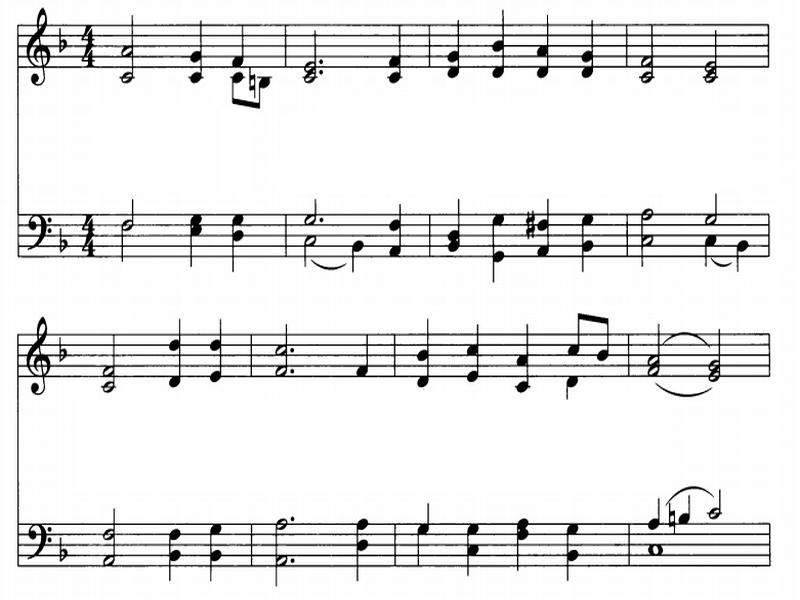B: (687, 14, 735, 88), (627, 1, 665, 93), (87, 504, 132, 575), (100, 324, 129, 403), (636, 199, 664, 268), (117, 14, 143, 86), (707, 326, 735, 386), (113, 1, 142, 55), (267, 321, 290, 382), (297, 21, 317, 90), (643, 315, 663, 379), (117, 221, 138, 265), (708, 485, 732, 522), (116, 55, 139, 90), (704, 184, 722, 228), (299, 230, 318, 267), (120, 195, 139, 228), (270, 552, 287, 583), (302, 193, 318, 222), (274, 517, 286, 548)
Bem: (57, 536, 74, 568), (55, 24, 72, 54), (54, 335, 71, 365), (55, 225, 67, 253)
C: (589, 311, 625, 369), (562, 304, 592, 357), (255, 74, 282, 112), (226, 74, 242, 108)
CF: (22, 508, 55, 565), (22, 203, 56, 257)
CS: (19, 300, 54, 405), (21, 1, 51, 95)
N: (158, 494, 201, 583), (173, 8, 215, 89), (505, 313, 542, 400), (408, 310, 441, 394), (345, 501, 380, 579), (443, 166, 473, 255), (481, 4, 513, 85), (507, 493, 538, 575), (475, 204, 508, 281), (555, 515, 592, 583), (204, 496, 232, 585), (452, 514, 489, 578), (574, 197, 604, 275), (575, 8, 608, 78), (458, 318, 490, 389), (175, 205, 207, 273), (157, 315, 186, 388), (200, 314, 229, 386), (529, 8, 557, 82), (223, 204, 252, 274), (380, 14, 408, 86), (385, 193, 411, 264), (354, 331, 381, 391), (446, 14, 470, 80), (229, 15, 252, 67), (417, 523, 440, 569), (553, 371, 581, 408), (695, 230, 720, 269), (413, 492, 435, 532), (643, 493, 664, 533), (347, 235, 369, 273), (729, 237, 750, 275), (676, 494, 701, 525)
P: (288, 512, 299, 527), (290, 557, 302, 570), (285, 369, 298, 379), (317, 68, 328, 78), (314, 58, 328, 65), (289, 346, 299, 354)
R: (645, 544, 665, 557)
SOS: (663, 497, 680, 535), (522, 203, 537, 242), (245, 66, 258, 94)
